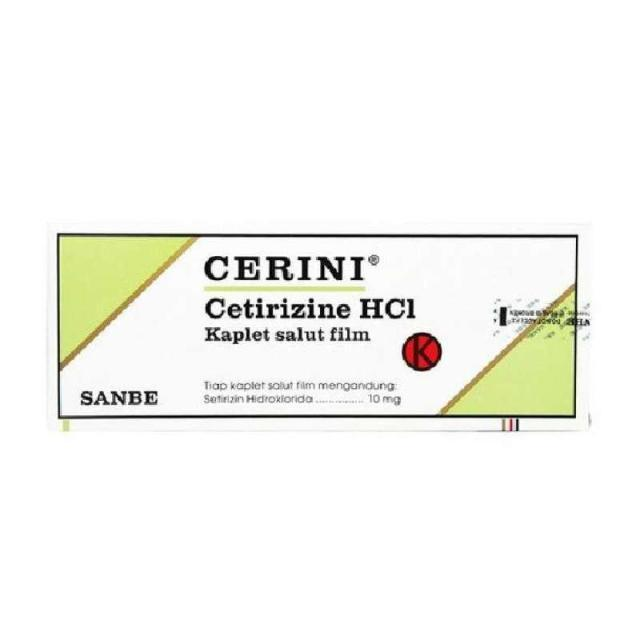drug-name: (200, 254, 366, 286)
